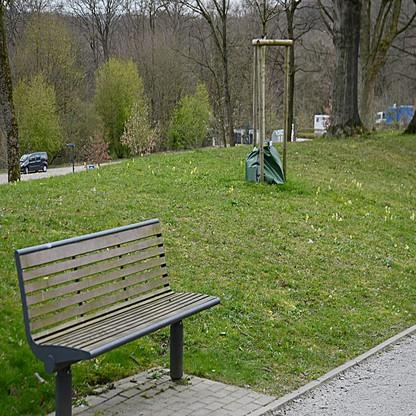obstacle: (8, 223, 217, 413)
